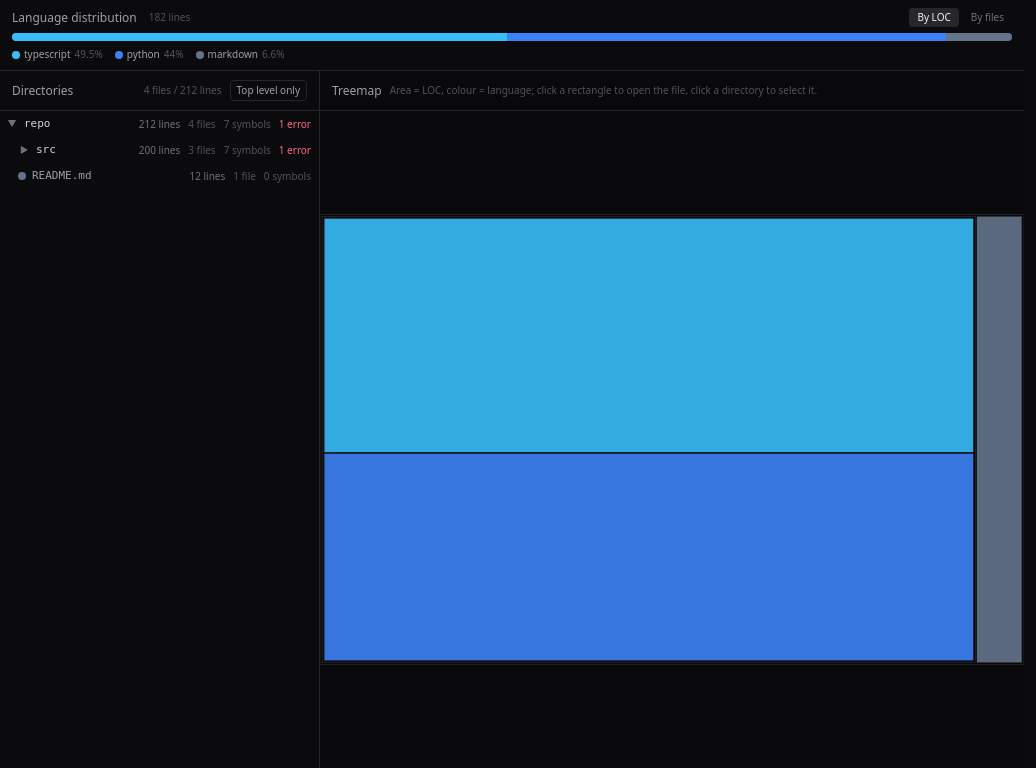
Test: DirTreeView 语言分布条 › 默认按 LOC 统计，可切到按文件数
This screenshot has width=1036, height=768.
Expected: the number of list items with test id "lang-legend-item" is 3, [12,47,103,62]; [115,47,184,62]; [196,47,284,62]
Expected: the text with test id "lang-bar-total" reads "182 lines", [149,10,190,24]
Click the button with test id "lang-mode-files".
click(987, 18)  # box [963,8,1012,27]
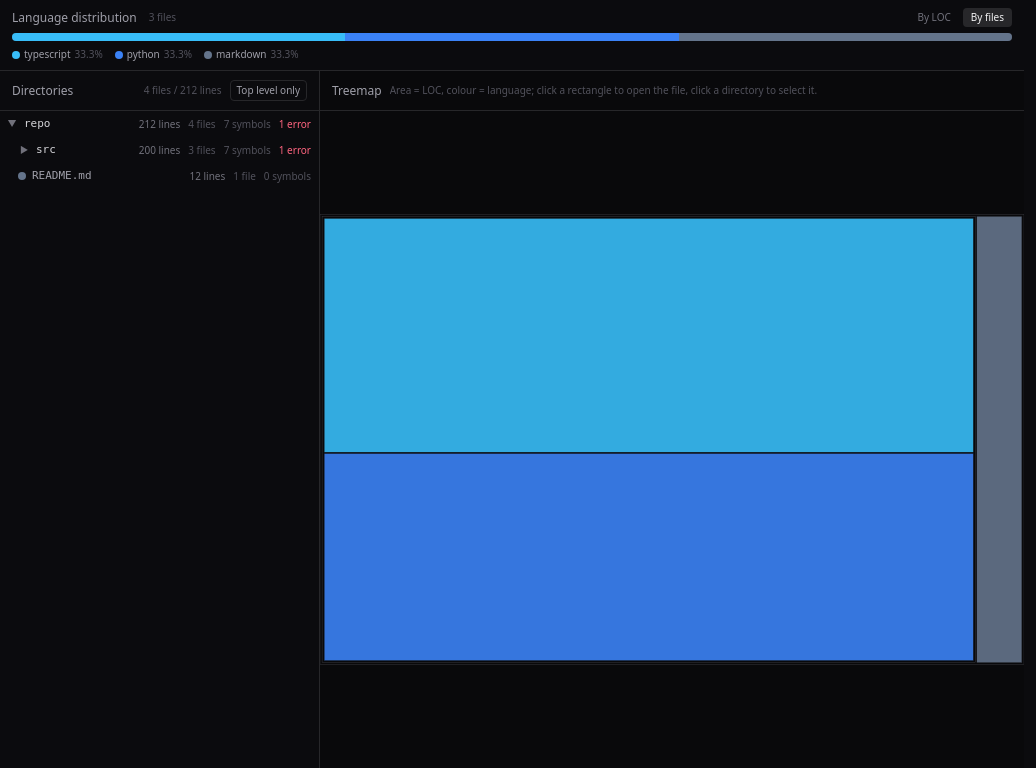
Expected: the text with test id "lang-bar-total" reads "3 files", [149,10,176,24]
